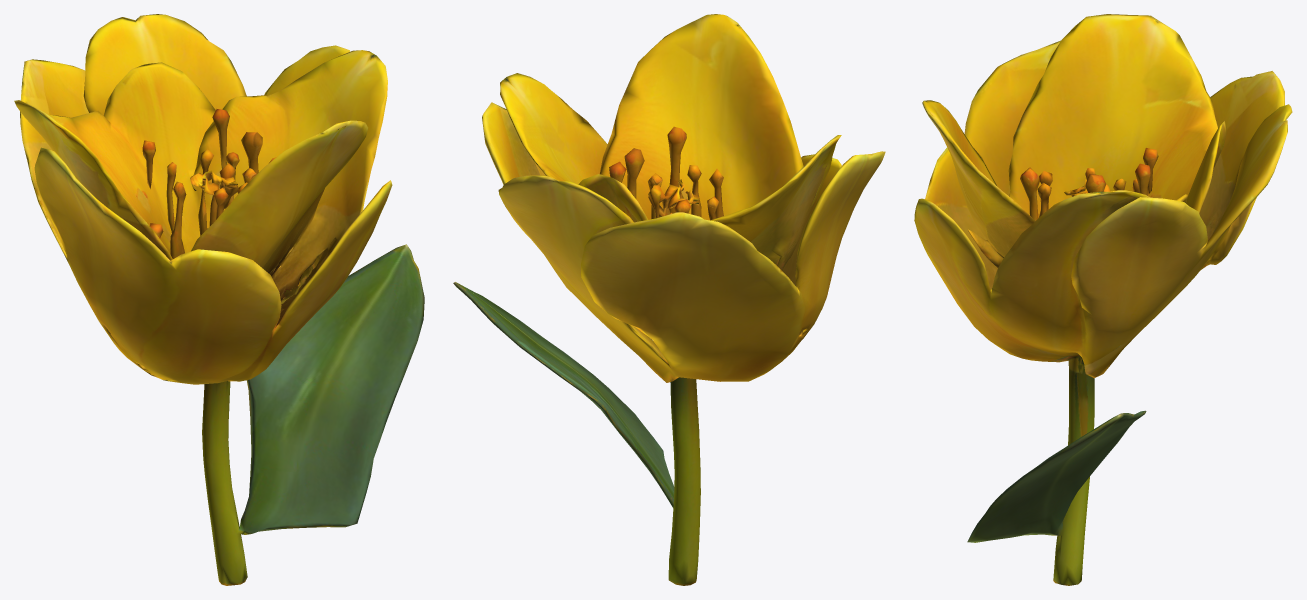
Rendered from tulipan.glb.
3 views of the same model, side by side, from view 1: azimuth 30°, elevation 25°; view 2: azimuth 150°, elevation 25°; view 3: azimuth 270°, elevation 25° (orthographic).
Size of the model in its own units: 1.57 by 2 by 1.38.
1 material, 1 textured.
